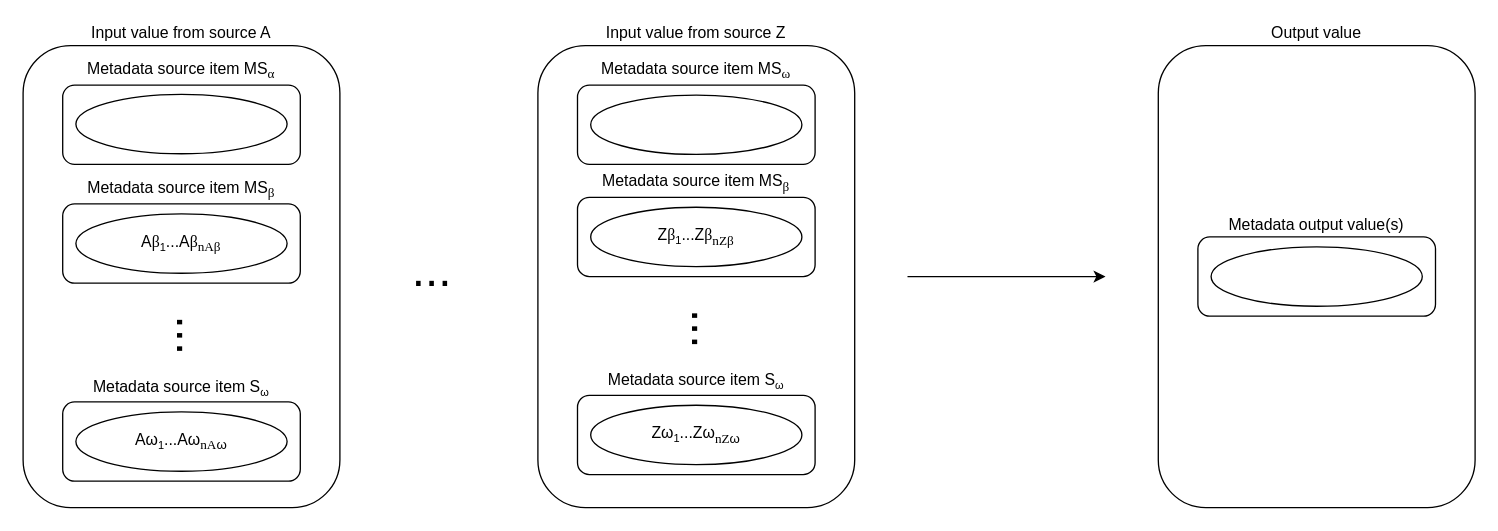
Image size: 1498x531. Some labels were removed from this diagram. The shapes that lost their labels are listed below. From the top down, each one's centre as x and y in pixels, then its label:
At point (181, 123): "A α 1 ...A α nA α".
At point (695, 124): "Z α 1 ...Z α nZ α".
At point (1316, 276): "o 1 ...o n".
